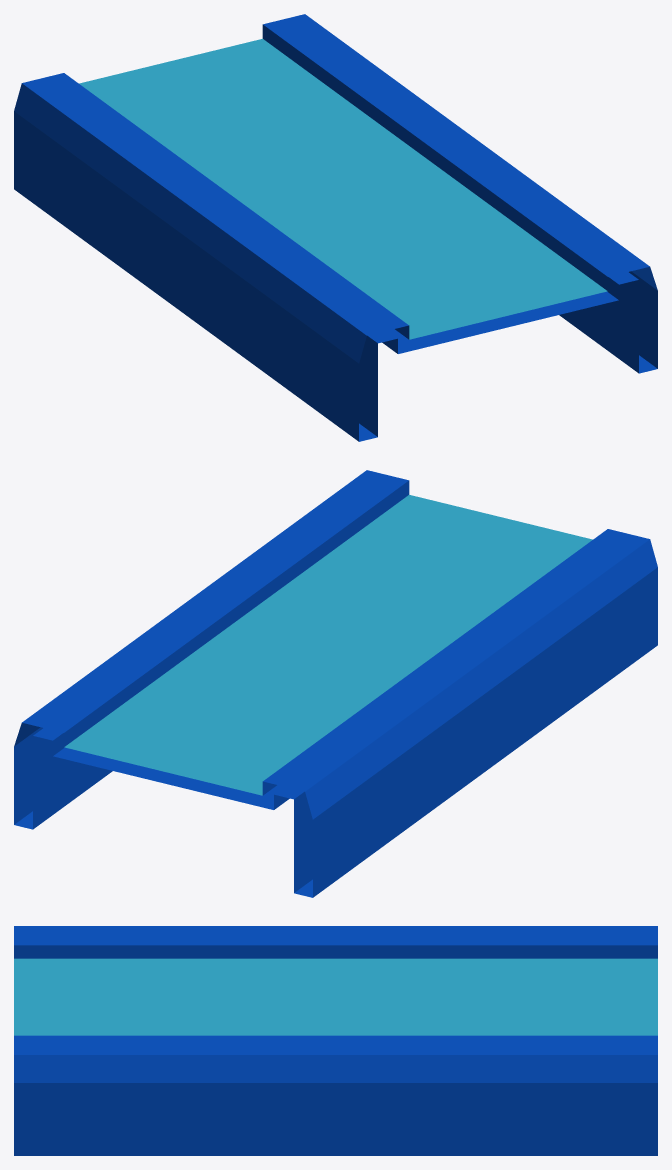
The model's file is Aqua03_12m.fbx.
3 views of the same model, one above another, from view 1: azimuth 30°, elevation 25°; view 2: azimuth 150°, elevation 25°; view 3: azimuth 270°, elevation 25° (orthographic). The views are drawn at different scales.
Parts seen in each view (by area): view 1: Aqua03_12m; view 2: Aqua03_12m; view 3: Aqua03_12m.
Boxes of the visible parts, x1,y1,x2,y2 form: Aqua03_12m: [14, 14, 657, 441]; Aqua03_12m: [14, 470, 657, 897]; Aqua03_12m: [14, 926, 657, 1155].
Bounding box in the file's own units: 600 × 200 × 1200.
